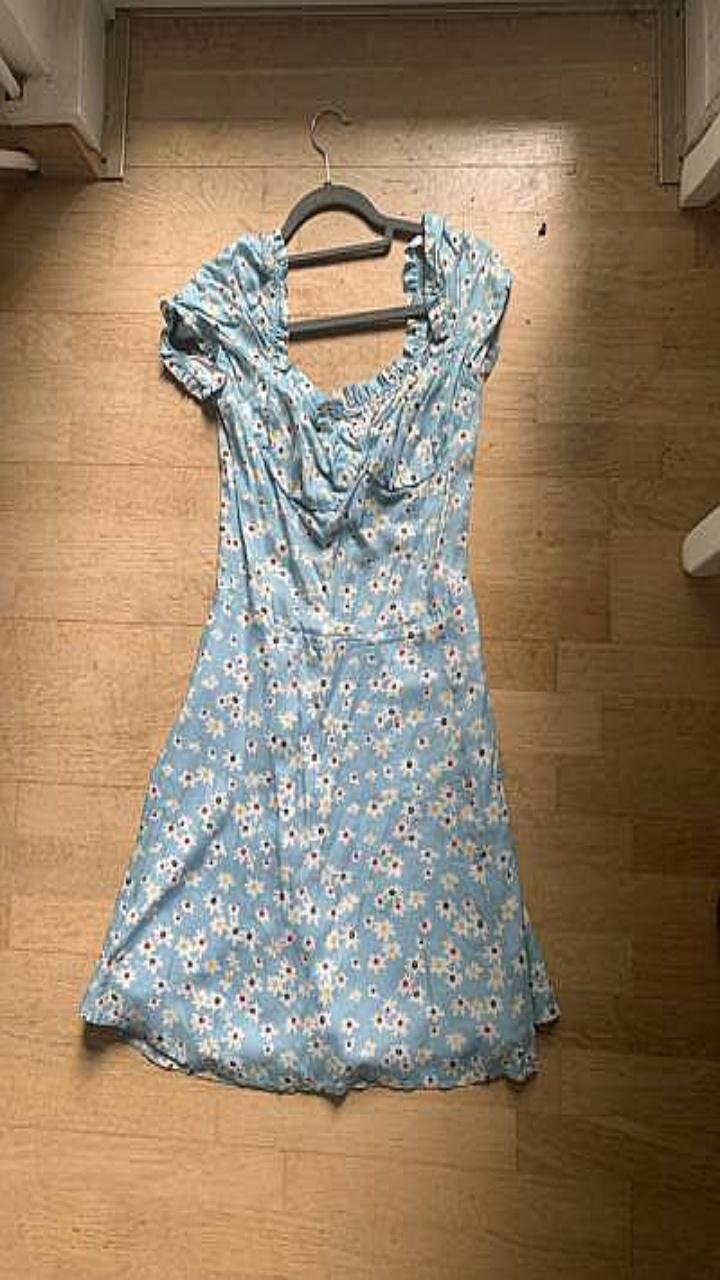Dresses: (80, 212, 559, 1095)
